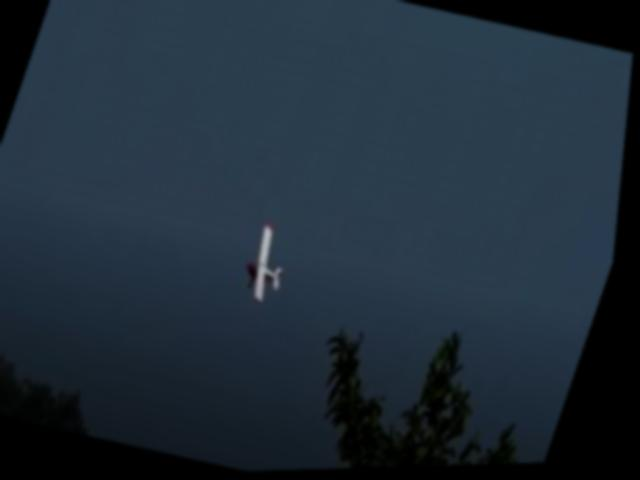uav: (237, 217, 312, 315)
